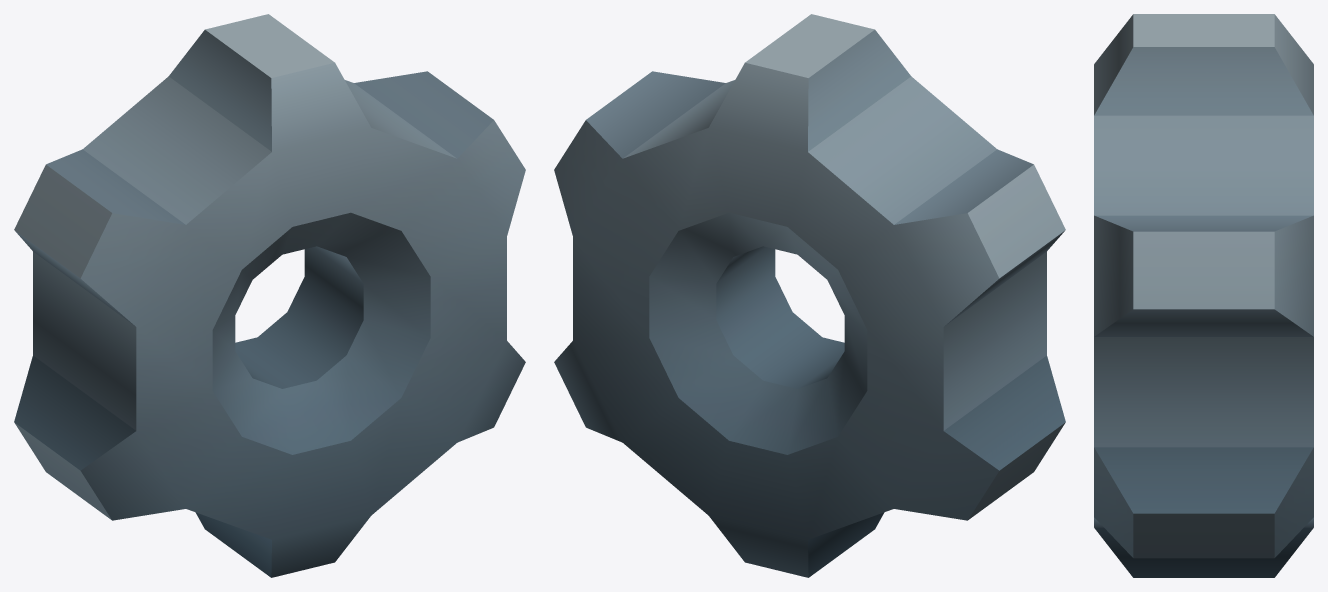
Rendered from parts_cog.glb.
3 views of the same model, side by side, from view 1: azimuth 30°, elevation 25°; view 2: azimuth 150°, elevation 25°; view 3: azimuth 270°, elevation 25° (orthographic). The views are drawn at different scales.
Parts seen in each view (by area): view 1: Parts_Cog; view 2: Parts_Cog; view 3: Parts_Cog.
Boxes of the visible parts, x1=… form: Parts_Cog: x1=14, y1=14, x2=525, y2=577; Parts_Cog: x1=554, y1=14, x2=1065, y2=577; Parts_Cog: x1=1094, y1=14, x2=1313, y2=577.
Size of the model in its own units: 0.2238 by 0.24 by 0.09.
1 material, 1 textured.
